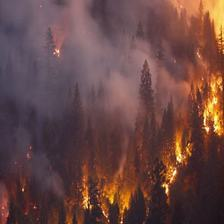fire: (188, 1, 223, 141), (70, 167, 146, 222), (155, 133, 194, 203), (15, 142, 38, 216), (45, 32, 65, 60), (2, 188, 13, 222)
